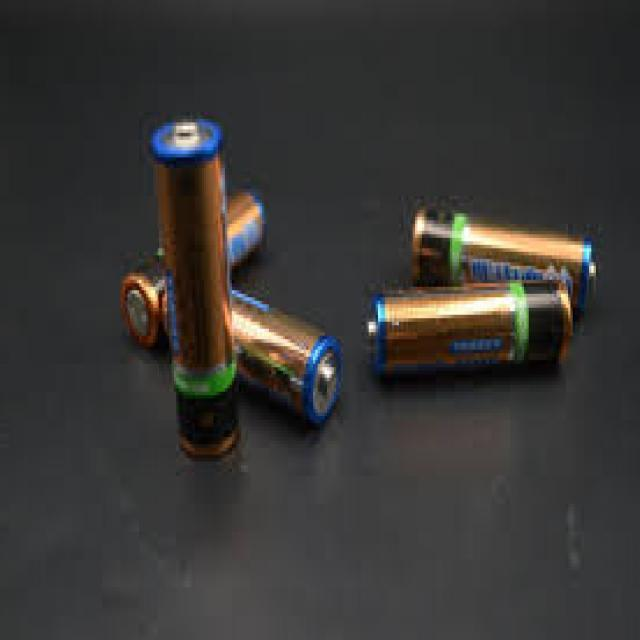battery: (154, 115, 242, 464), (120, 185, 270, 348), (368, 276, 571, 384), (412, 203, 599, 315), (230, 286, 344, 428)
